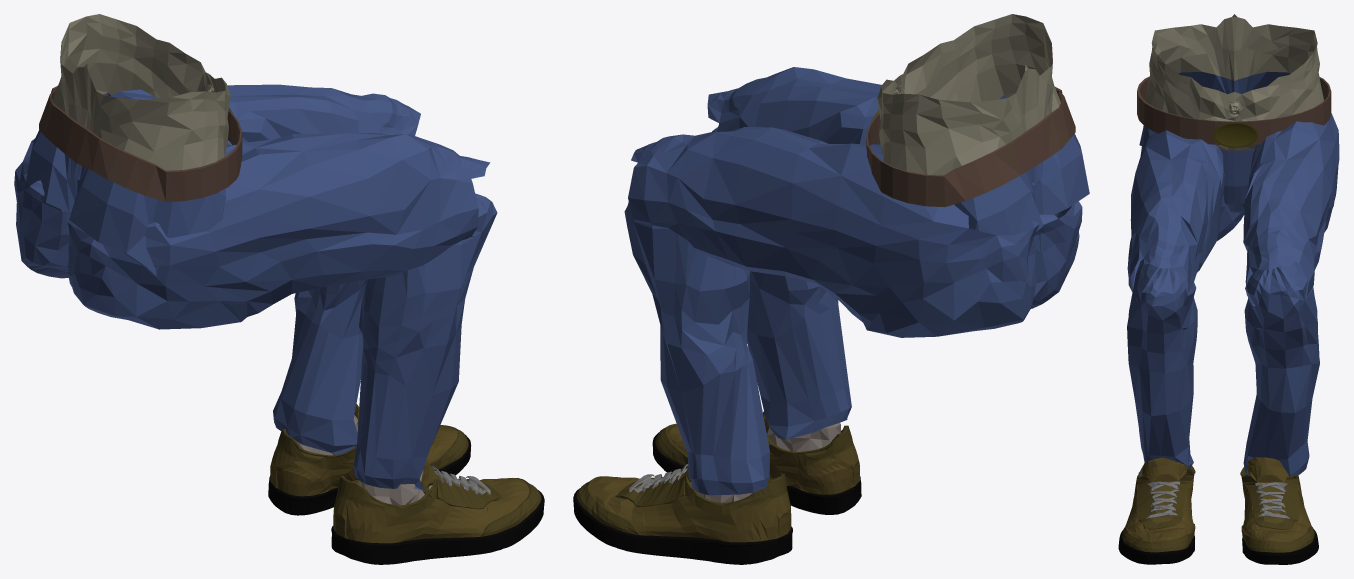
The model's file is baseSeat.dae.
The picture shows the model from 3 angles, left to right: view 1: azimuth 30°, elevation 25°; view 2: azimuth 150°, elevation 25°; view 3: azimuth 270°, elevation 25°; orthographic projection. The views are drawn at different scales.
Visible parts, largest first — view 1: LoLeg_R, Pelvis, UpLeg_R, Foot_R, LoLeg_L, UpLeg_L, Foot_L; view 2: LoLeg_L, Pelvis, UpLeg_L, Foot_L, UpLeg_R, LoLeg_R, Foot_R; view 3: Pelvis, UpLeg_L, LoLeg_L, LoLeg_R, UpLeg_R, Foot_R, Foot_L.
Boxes of the visible parts, x1,y1,x2,y2 form: LoLeg_R: (65, 133, 490, 329); Pelvis: (26, 14, 242, 276); UpLeg_R: (354, 193, 497, 490); Foot_R: (331, 461, 544, 564); LoLeg_L: (14, 84, 420, 278); UpLeg_L: (273, 279, 366, 454); Foot_L: (268, 404, 471, 515); LoLeg_L: (628, 127, 1039, 337); Pelvis: (866, 14, 1089, 251); UpLeg_L: (624, 202, 769, 495); Foot_L: (573, 464, 792, 564); UpLeg_R: (712, 127, 851, 439); LoLeg_R: (707, 67, 1082, 308); Foot_R: (652, 411, 861, 514); Pelvis: (1137, 14, 1331, 212); UpLeg_L: (1243, 261, 1319, 475); LoLeg_L: (1243, 113, 1339, 306); LoLeg_R: (1127, 130, 1244, 299); UpLeg_R: (1127, 259, 1197, 473); Foot_R: (1118, 458, 1195, 564); Foot_L: (1240, 457, 1318, 564).
Size of the model in its own units: 0.721 by 0.3992 by 0.8114.
